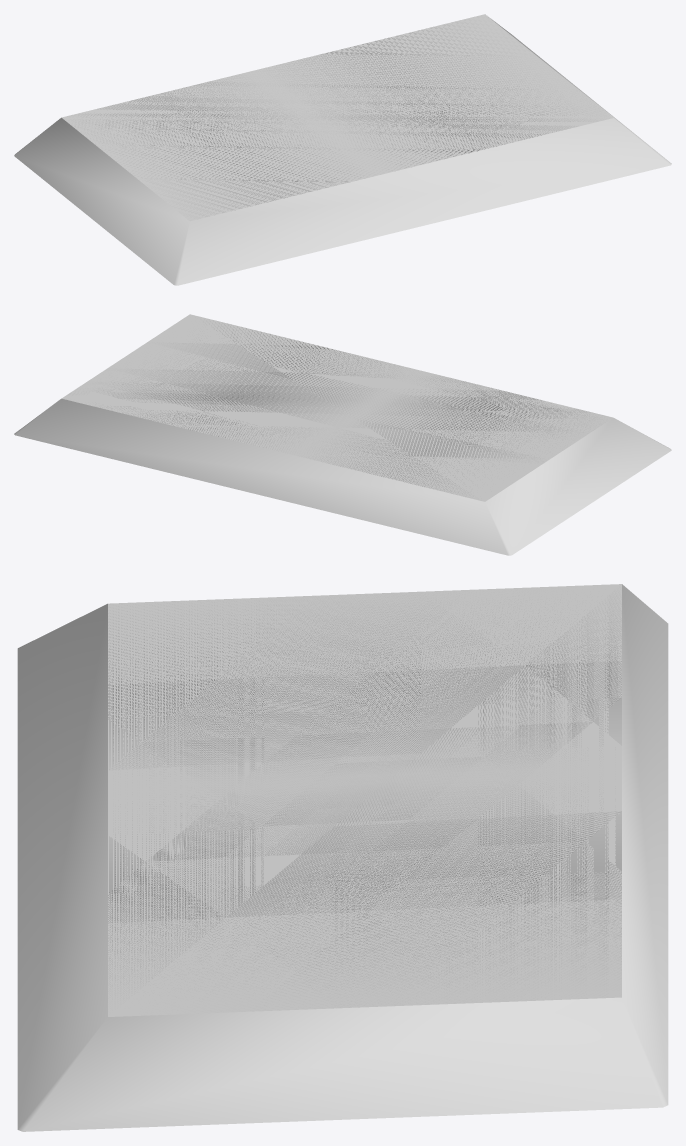
File: original-55.obj
3 renders of one model, top to bottom at view 1: azimuth 30°, elevation 25°; view 2: azimuth 150°, elevation 25°; view 3: azimuth 270°, elevation 25°, orthographic. The views are drawn at different scales.
Parts seen in each view (by area): view 1: Group55/mesh53/mesh53-geometry#mesh53-geometry; view 2: Group55/mesh53/mesh53-geometry#mesh53-geometry; view 3: Group55/mesh53/mesh53-geometry#mesh53-geometry.
Boxes of the visible parts, <box> form: Group55/mesh53/mesh53-geometry#mesh53-geometry: <box>14,14,671,285</box>; Group55/mesh53/mesh53-geometry#mesh53-geometry: <box>14,314,671,555</box>; Group55/mesh53/mesh53-geometry#mesh53-geometry: <box>17,584,668,1131</box>.
Size of the model in its own units: 0.1263 by 0.0119 by 0.0715.
